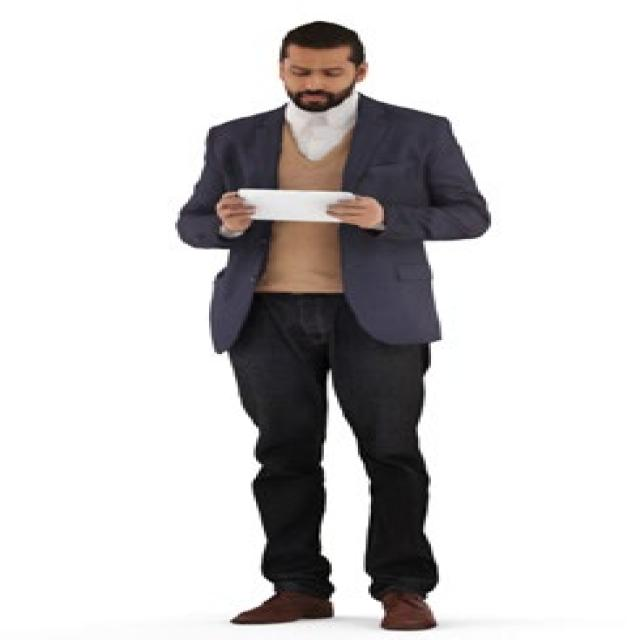standing: (175, 18, 492, 631)
